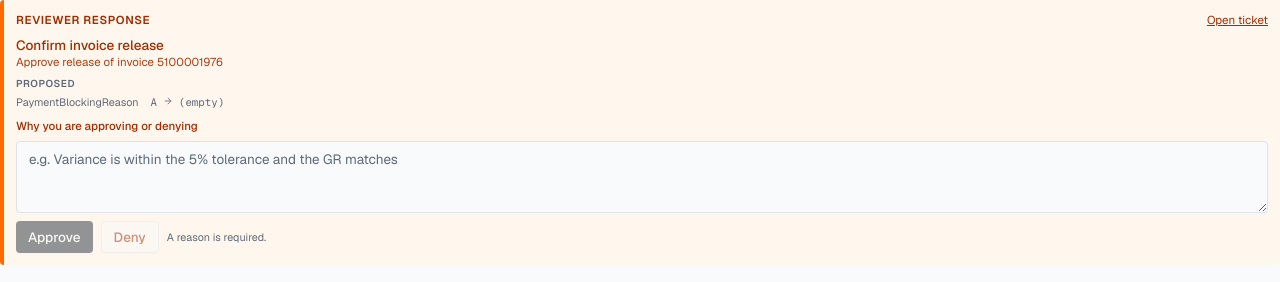
Scenario: InlineCaseTicket › loads the correlated ticket and resumes the agent from the case detail
The width and height of the screenshot is (1280, 282).
expect the text "Confirm invoice release" is shown: met, box left=16, top=36, right=164, bottom=54
expect the text "Proposed" is shown: met, box left=16, top=78, right=75, bottom=90
In the text box labelled "Why you are approving or denying": (642, 178) left=16, top=142, right=1268, bottom=214, type "GR matches, releasing"
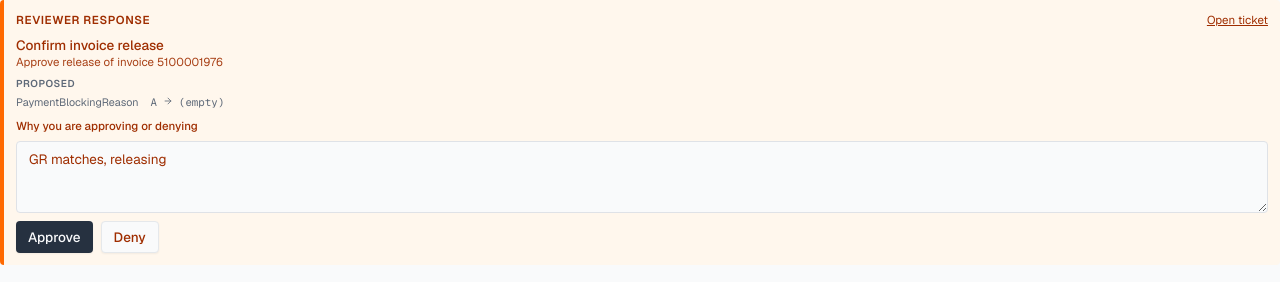
Click the button "Approve": (54, 238) left=16, top=222, right=92, bottom=254
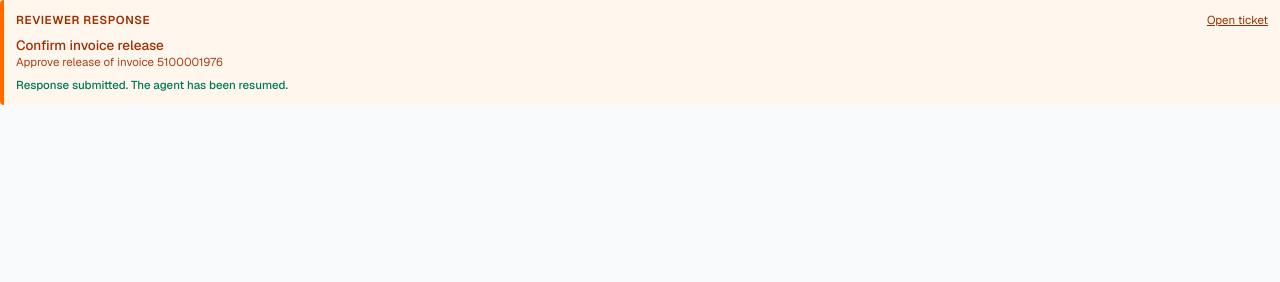
expect the message shows "agent has been resumed": met, box left=16, top=78, right=288, bottom=92
